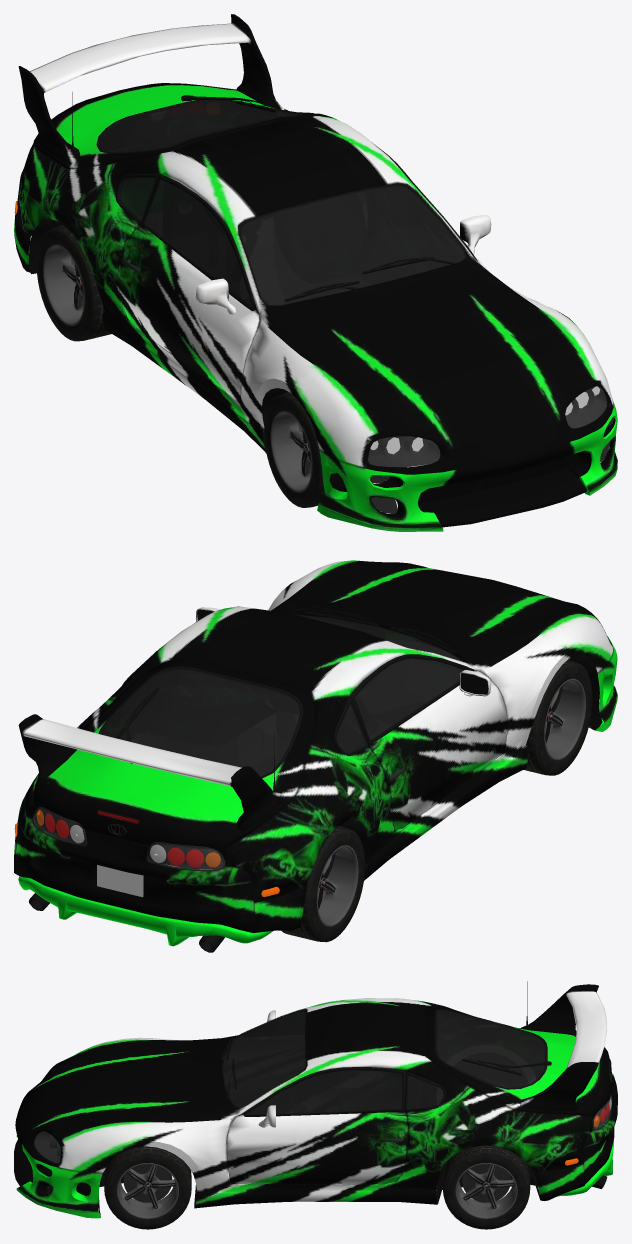
File: jza80_lo.glb
3 views of the same model, one above another, from view 1: azimuth 30°, elevation 25°; view 2: azimuth 150°, elevation 25°; view 3: azimuth 270°, elevation 25° (orthographic). The views are drawn at different scales.
Parts seen in each view (by area): view 1: CarPaint, Body, wheel_rr, wheel_fr, Props; view 2: CarPaint, Body, wheel_rr, wheel_fr, Props, LightsMesh; view 3: CarPaint, Body, wheel_rl, wheel_fl, Props.
Part boxes in pixels (x1=…): CarPaint: x1=14, y1=14, x2=617, y2=531; Body: x1=14, y1=100, x2=613, y2=513; wheel_rr: x1=36, y1=225, x2=111, y2=341; wheel_fr: x1=264, y1=392, x2=324, y2=507; Props: x1=71, y1=92, x2=456, y2=301; CarPaint: x1=14, y1=560, x2=617, y2=946; Body: x1=14, y1=609, x2=602, y2=952; wheel_rr: x1=281, y1=826, x2=365, y2=942; wheel_fr: x1=523, y1=660, x2=592, y2=775; Props: x1=96, y1=606, x2=456, y2=897; LightsMesh: x1=36, y1=809, x2=220, y2=867; CarPaint: x1=14, y1=984, x2=617, y2=1218; Body: x1=34, y1=1009, x2=612, y2=1214; wheel_rl: x1=442, y1=1145, x2=530, y2=1229; wheel_fl: x1=104, y1=1146, x2=191, y2=1229; Props: x1=221, y1=981, x2=611, y2=1099.
Size of the model in its own units: 1.89 by 1.34 by 4.52.
Materials: 10 (3 with a texture image).
